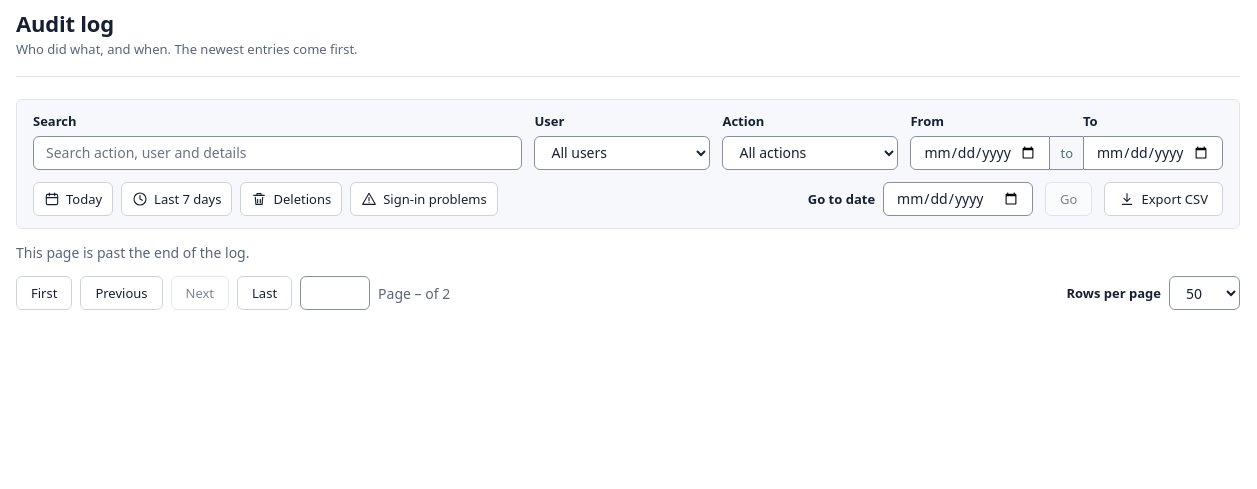
it: AuditPage › does not flash the past-the-end message for an old page while the next one loads
The width and height of the screenshot is (1257, 489).
Expected: the text "This page is past the end of the log." is shown, [16, 243, 250, 262]
Click the button "First" at (44, 294), box [16, 276, 72, 310]
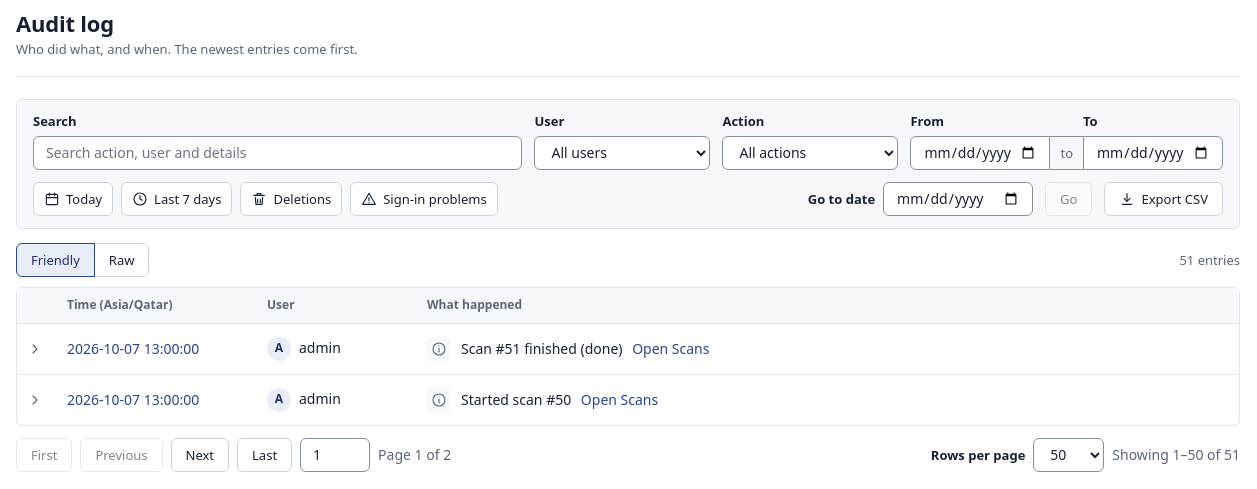
Expected: the text "This page is past the end of the log." is gone
Expected: the text "Scan #51 finished (done)" is shown, [461, 339, 622, 358]
